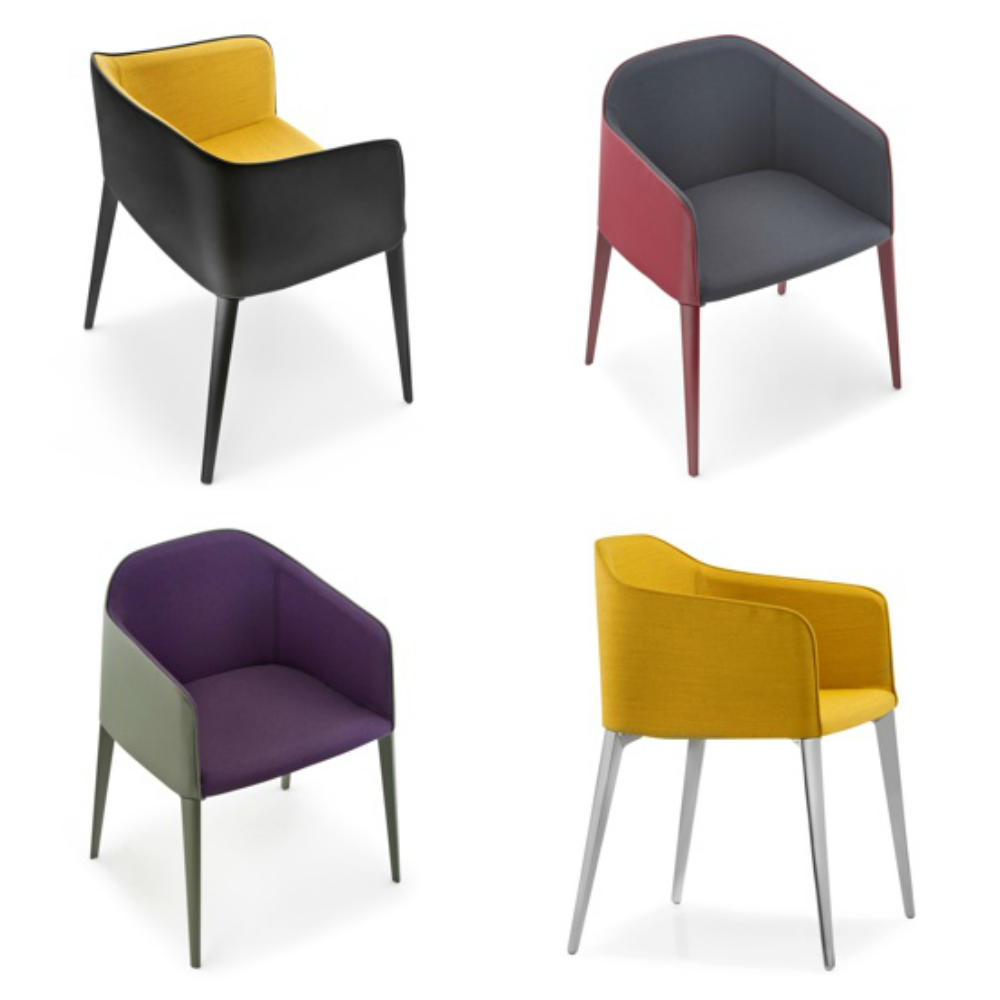chairs: (64, 33, 425, 491), (565, 520, 920, 977), (568, 23, 918, 480), (88, 524, 406, 977)
